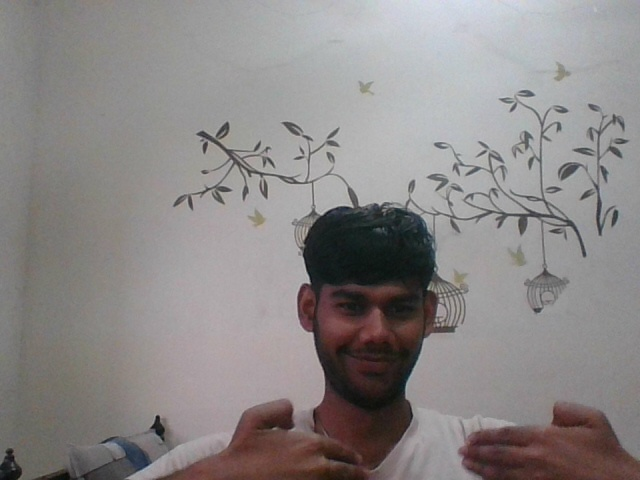I am Utkarsh: (201, 389, 628, 475)
